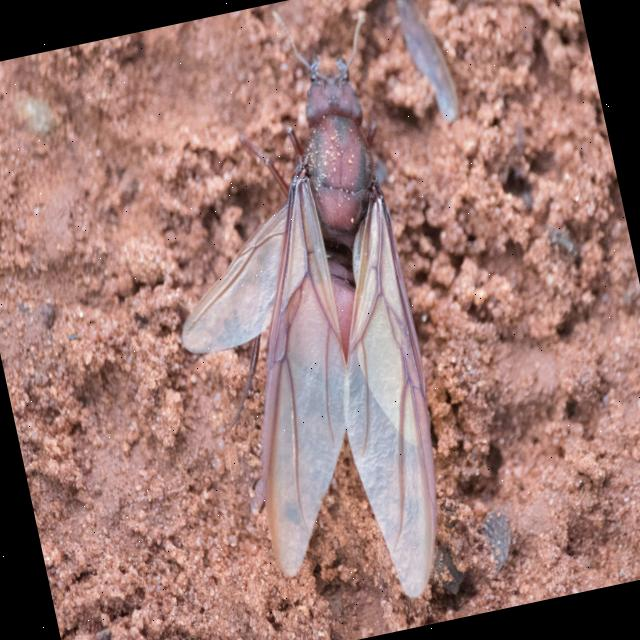Alive-Female-Alate: (118, 0, 485, 634)
